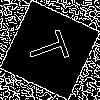T: (25, 25, 79, 69)
